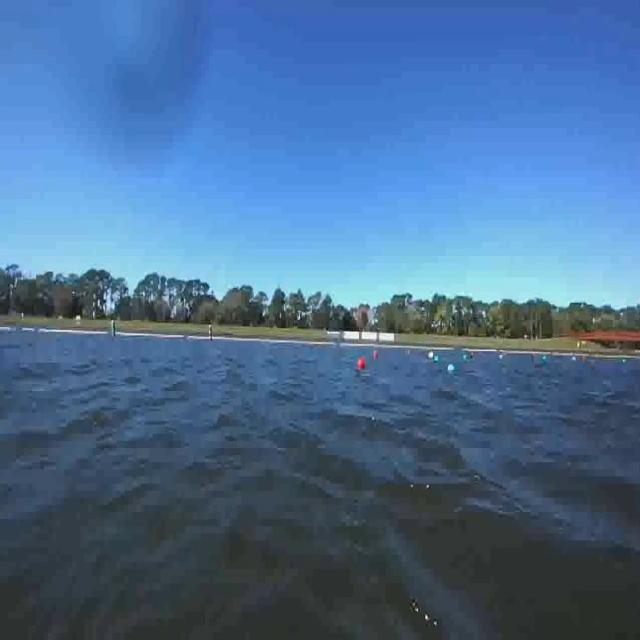red-buoy: (358, 358, 366, 370)
